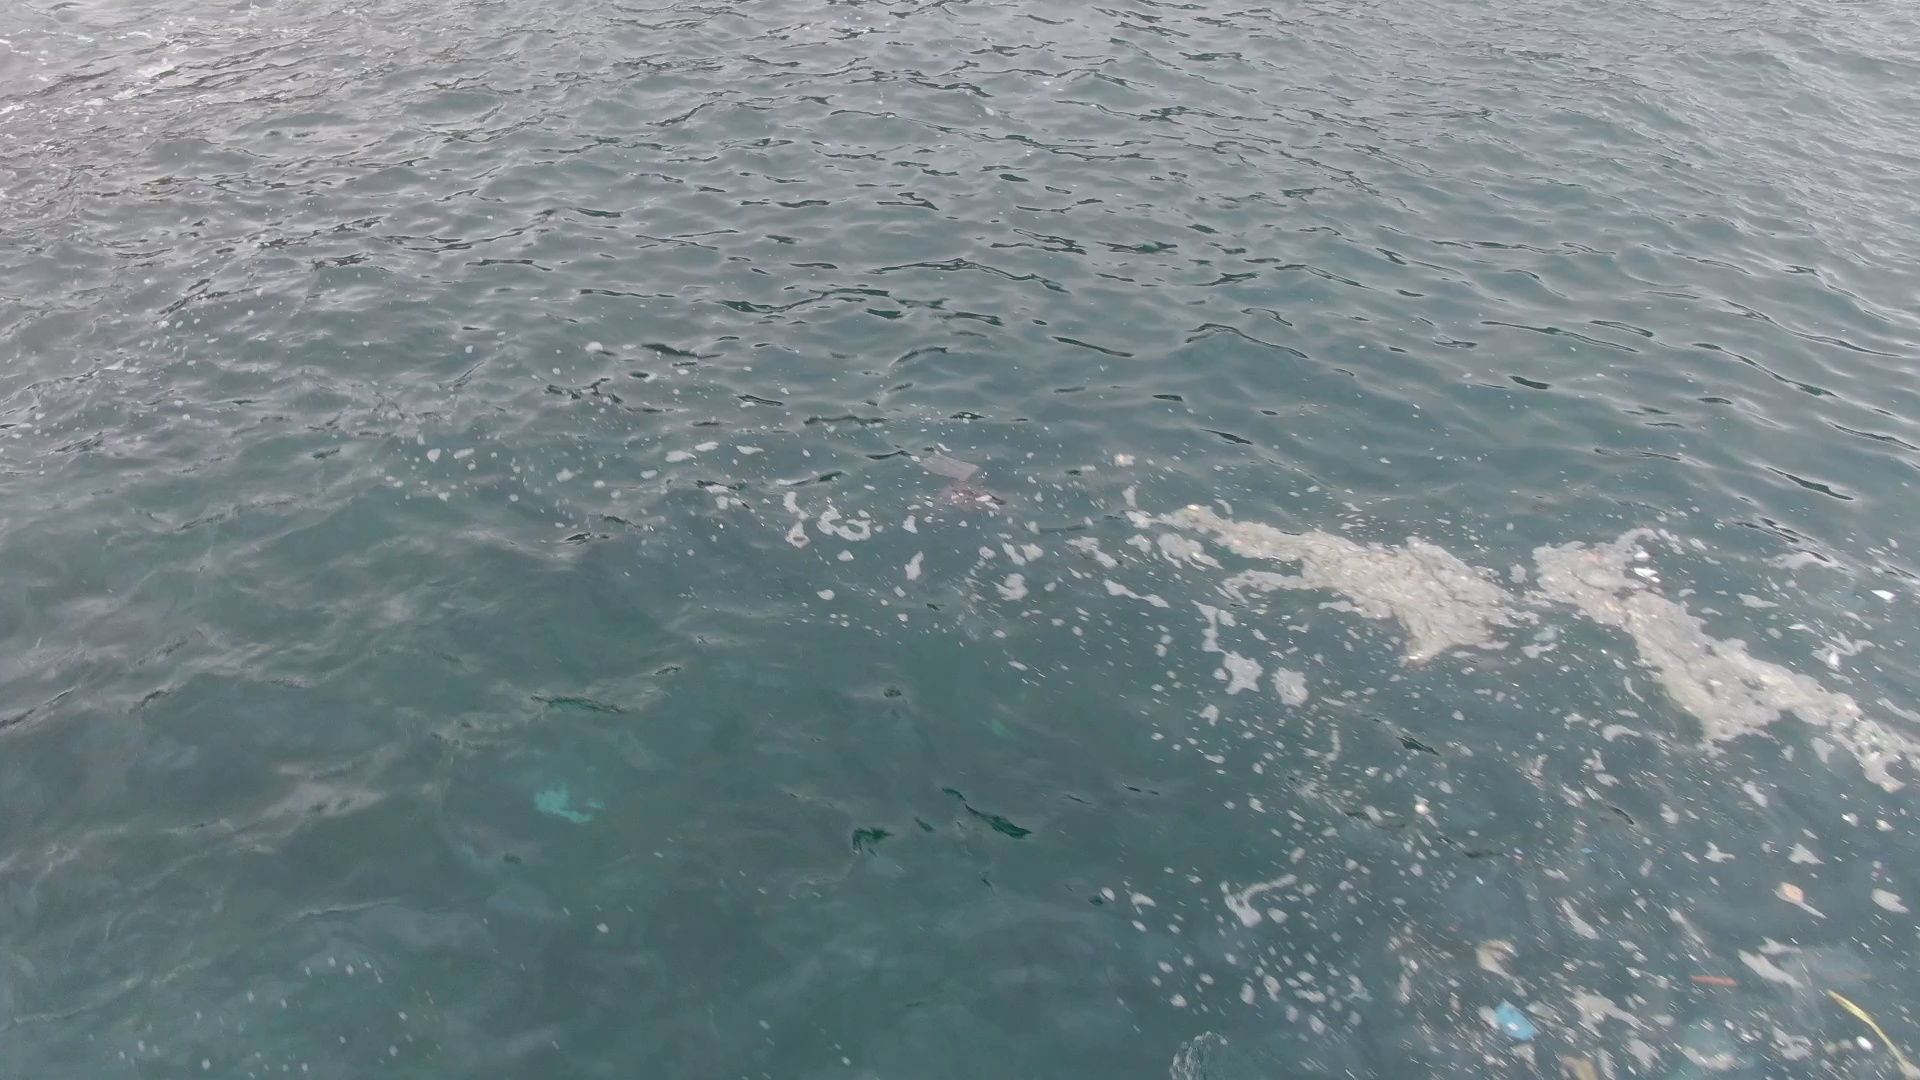garbage: (1825, 984, 1919, 1077), (1480, 996, 1542, 1044), (1779, 884, 1828, 920), (1688, 969, 1739, 986)
